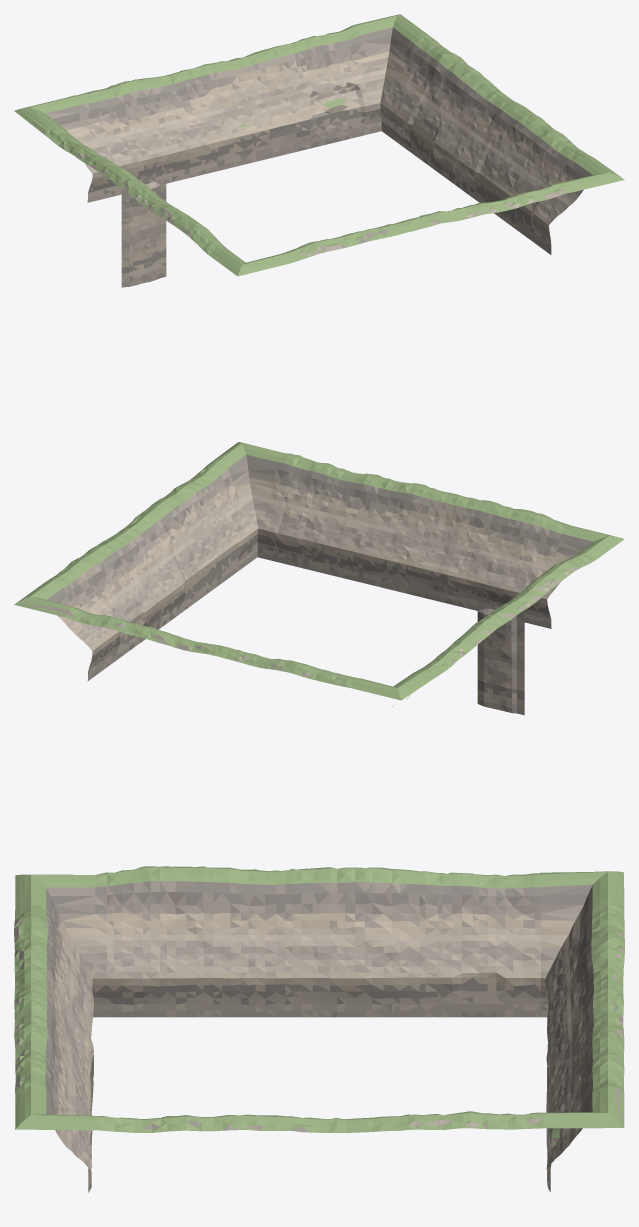
File: srf_terr_cliffs.glb
3 renders of one model, top to bottom at view 1: azimuth 30°, elevation 25°; view 2: azimuth 150°, elevation 25°; view 3: azimuth 270°, elevation 25°, orthographic. The views are drawn at different scales.
Parts seen in each view (by area): view 1: srf_terr_cliffs; view 2: srf_terr_cliffs; view 3: srf_terr_cliffs.
Boxes of the visible parts, x1,y1,x2,y2 form: srf_terr_cliffs: [14, 14, 624, 287]; srf_terr_cliffs: [14, 442, 624, 715]; srf_terr_cliffs: [14, 866, 624, 1192].
Size of the model in its own units: 116 by 52.88 by 116.
